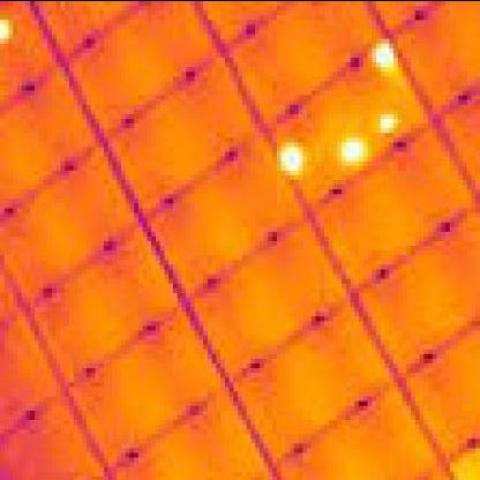fault: (346, 136, 372, 158), (0, 15, 15, 46), (376, 41, 396, 63), (277, 149, 302, 164), (384, 113, 401, 134)
